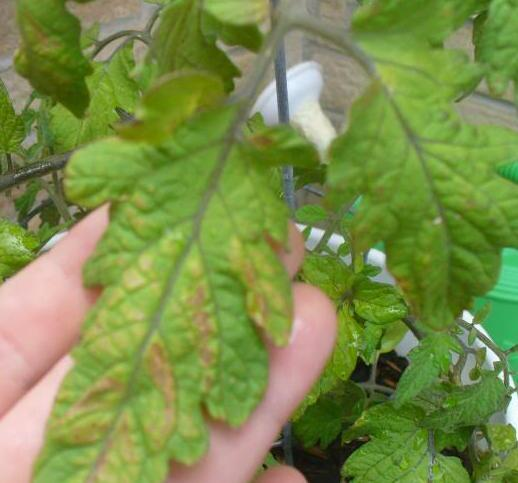Tomato leaf bacterial spot: (7, 70, 305, 483), (311, 6, 503, 346)
